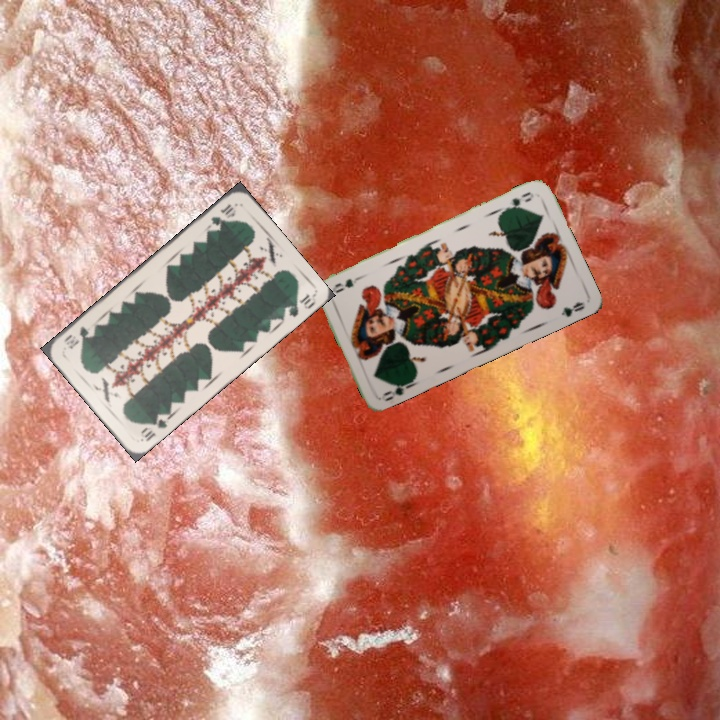G10: (136, 409, 170, 444), (207, 200, 239, 228)
GO: (378, 375, 417, 404), (500, 188, 536, 214)
